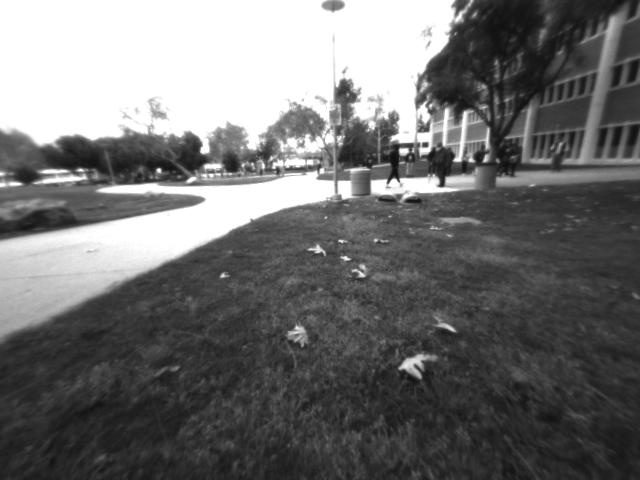trashcan: (344, 161, 375, 199), (472, 157, 499, 197)
